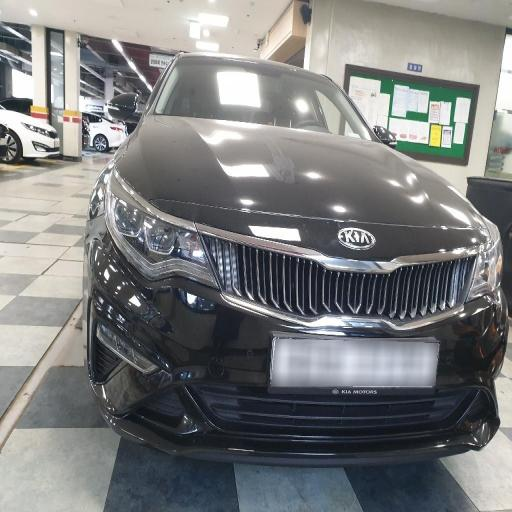normal: (84, 38, 512, 489)
